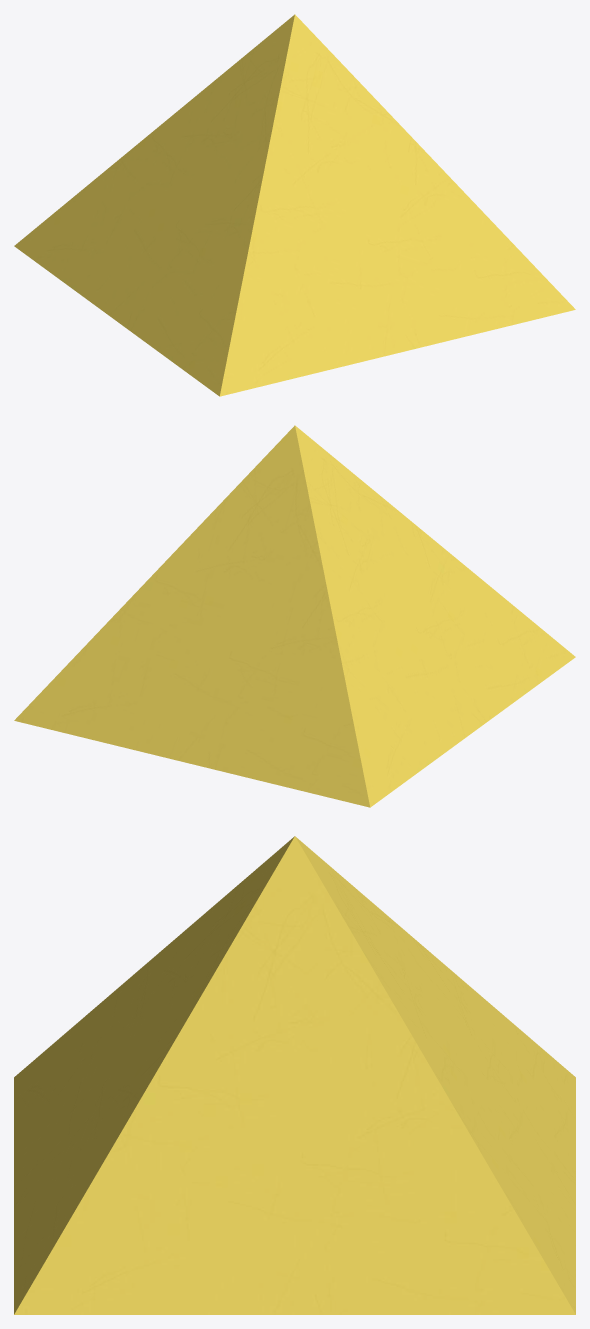
3 renders of one model, top to bottom at view 1: azimuth 30°, elevation 25°; view 2: azimuth 150°, elevation 25°; view 3: azimuth 270°, elevation 25°, orthographic. The views are drawn at different scales.
Visible parts, largest first — view 1: primitive_pyramid_gold; view 2: primitive_pyramid_gold; view 3: primitive_pyramid_gold.
Part boxes in pixels (x1,y1,x2,y2): primitive_pyramid_gold: (14,14,575,396); primitive_pyramid_gold: (14,425,575,807); primitive_pyramid_gold: (14,836,575,1314).
Size of the model in its own units: 0.2 by 0.1414 by 0.2.
Materials: 1 (1 with a texture image).
